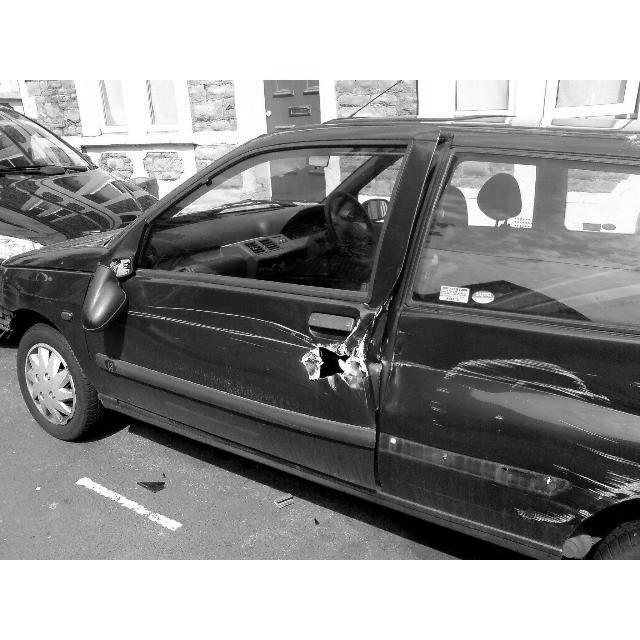doorouter-dent: (383, 282, 640, 518), (132, 284, 386, 480)
fender-dent: (1, 260, 110, 355)
